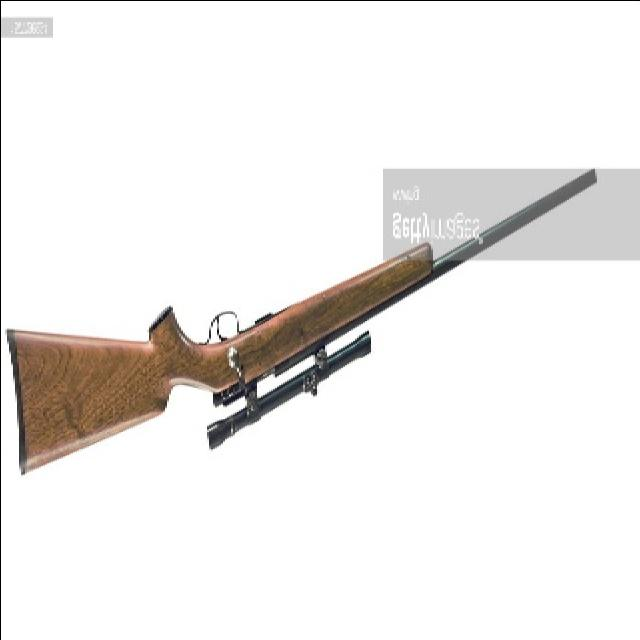rifle: (7, 168, 605, 488)
